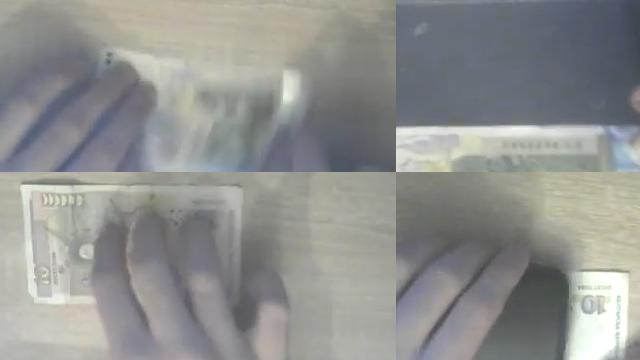10leva: (24, 183, 213, 303), (112, 43, 279, 172), (396, 108, 640, 172), (396, 126, 640, 172), (564, 269, 630, 360)
